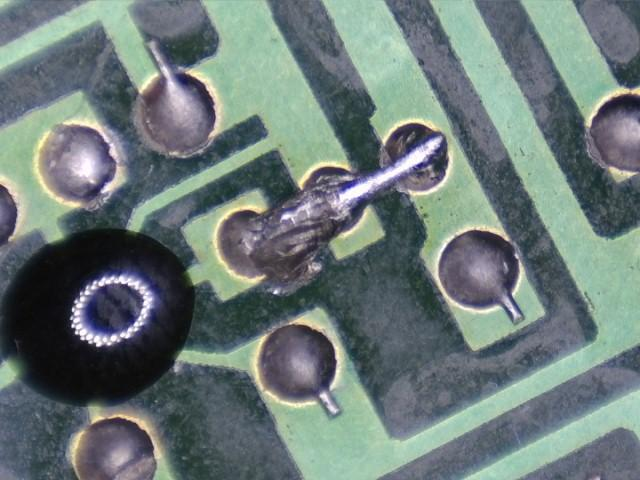Short_circuit: (248, 135, 444, 296)
